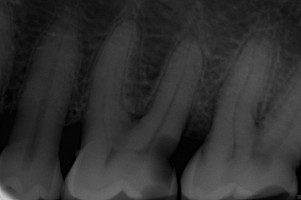Endo-Periodontal Lesion: (127, 112, 147, 121)
